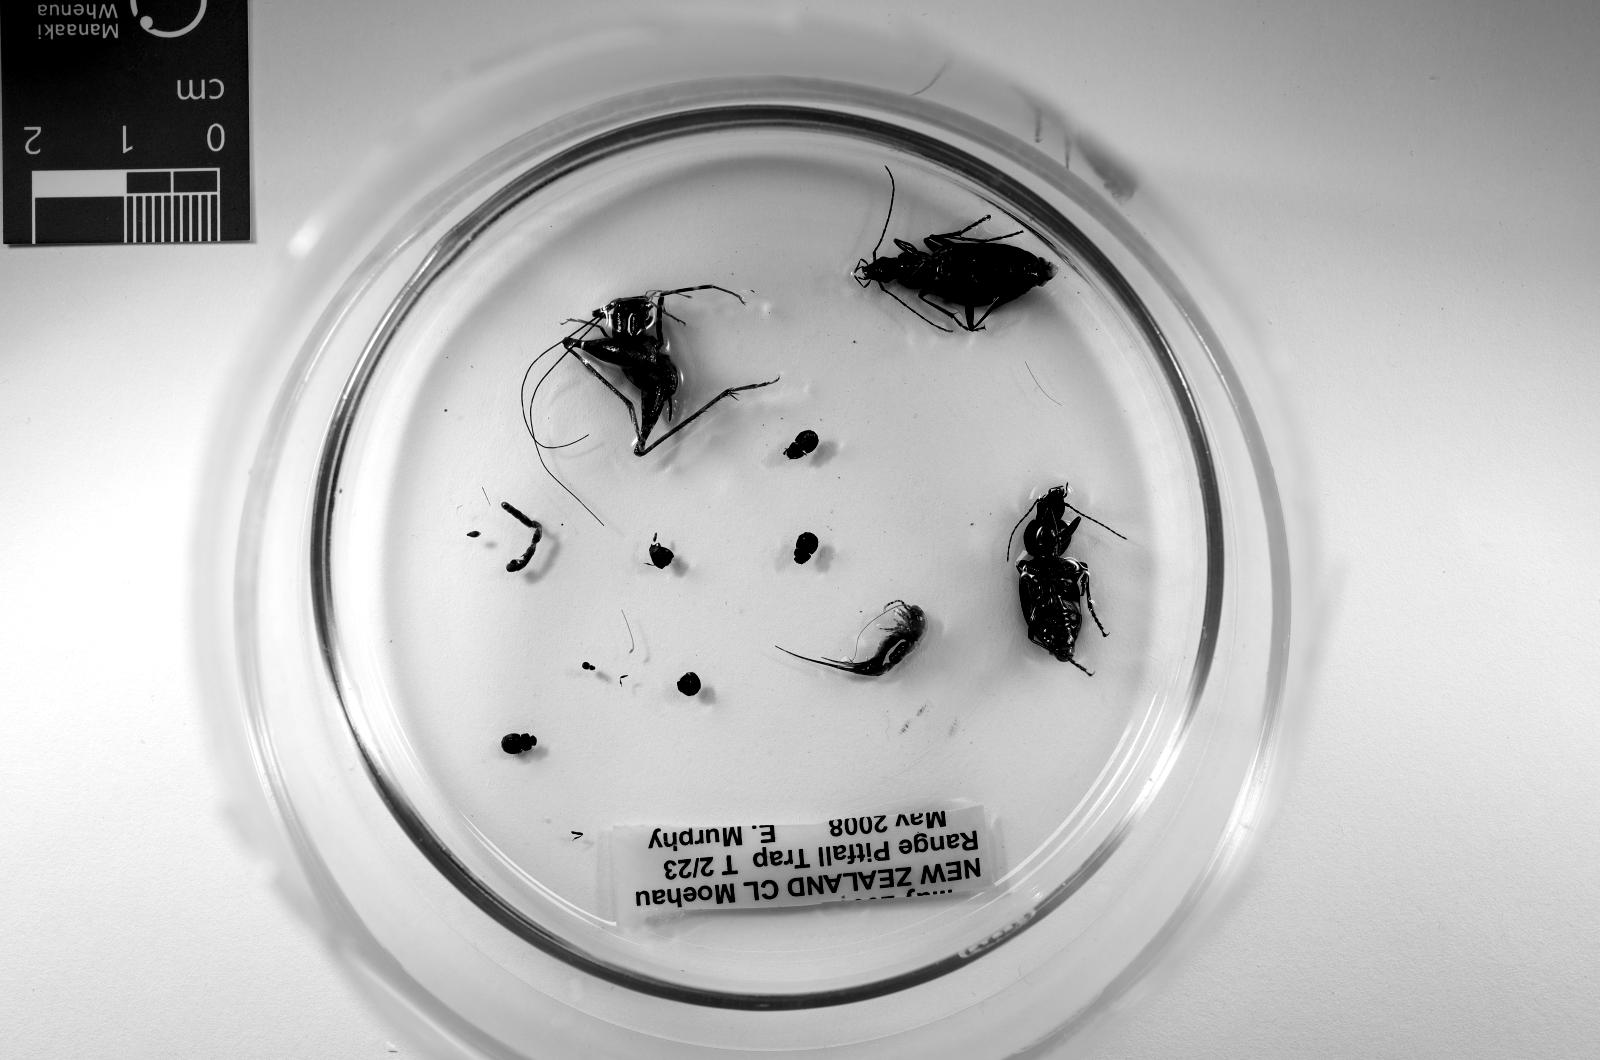archaeognatha: (803, 599, 928, 677)
carabidae: (856, 230, 1056, 332), (1016, 484, 1097, 665)
coleoptera: (784, 429, 819, 460), (794, 531, 819, 565), (500, 733, 538, 755)
orthoptera: (562, 286, 772, 457)
